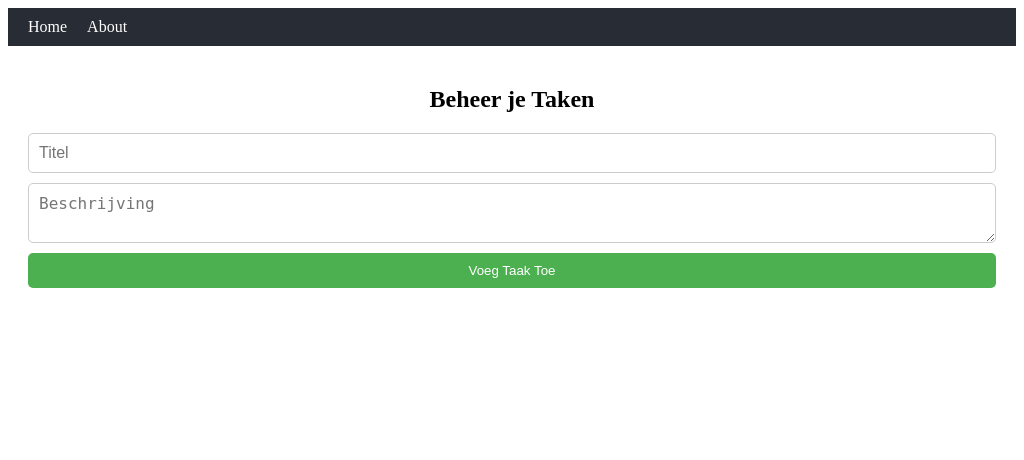
Test: Task Manager - POST Task › should allow adding a new task
// Vul het formulier in en verstuur de taak
Type "Nieuwe Taak" into the field with placeholder "Titel" at [512, 153], box [28,133,996,173]
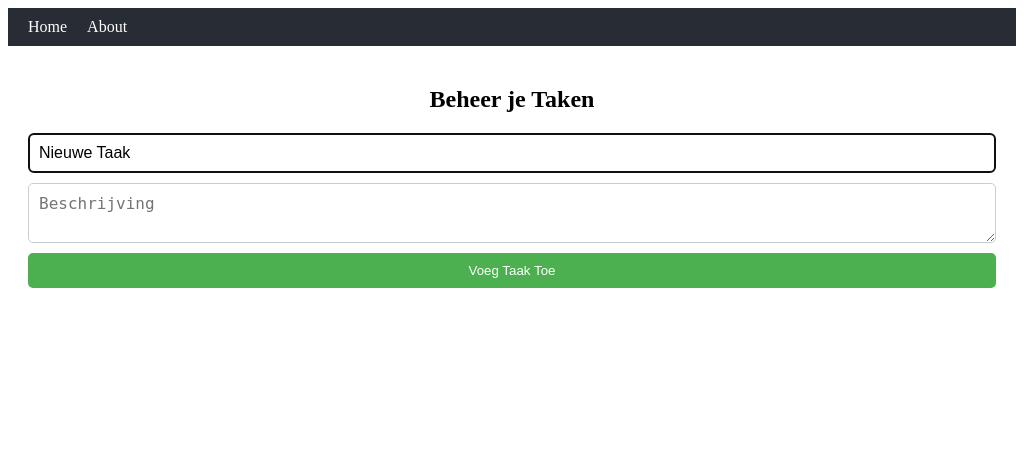
Type "Beschrijving van taak" into the text box with placeholder "Beschrijving" at [512, 213], box [28,183,996,243]
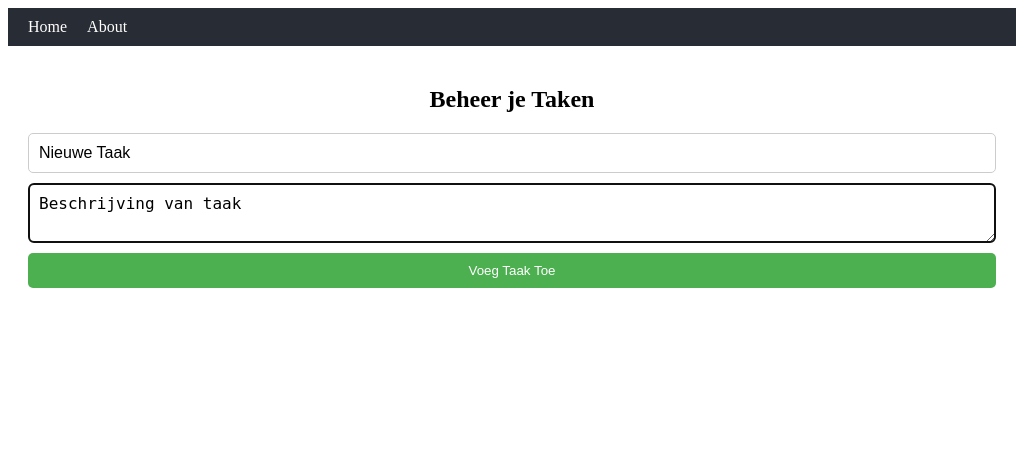
Click the button "Voeg Taak Toe" at [512, 271], box [28,253,996,288]
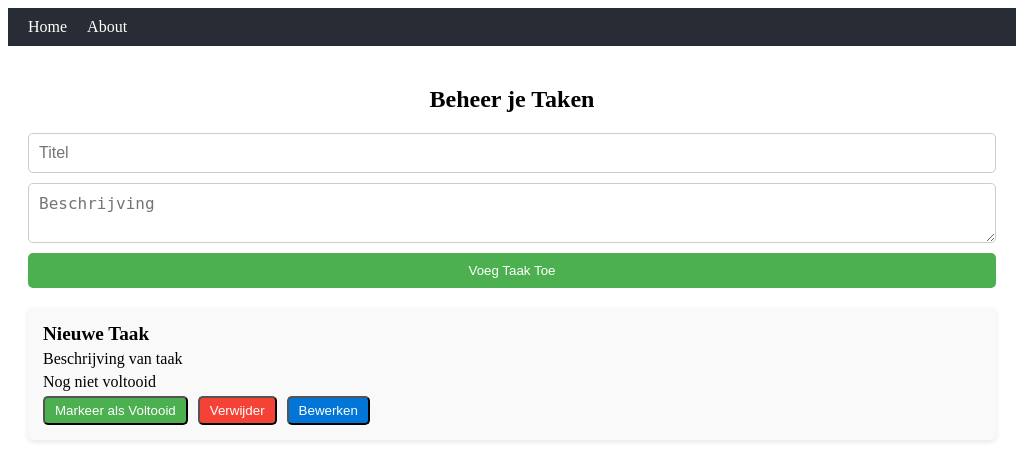
Now the heading "Nieuwe Taak" is shown, box [43,323,149,344]
